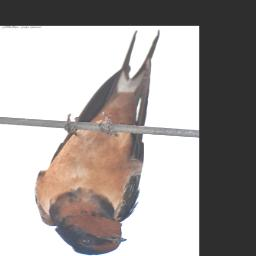Swallow: (33, 28, 162, 256)
